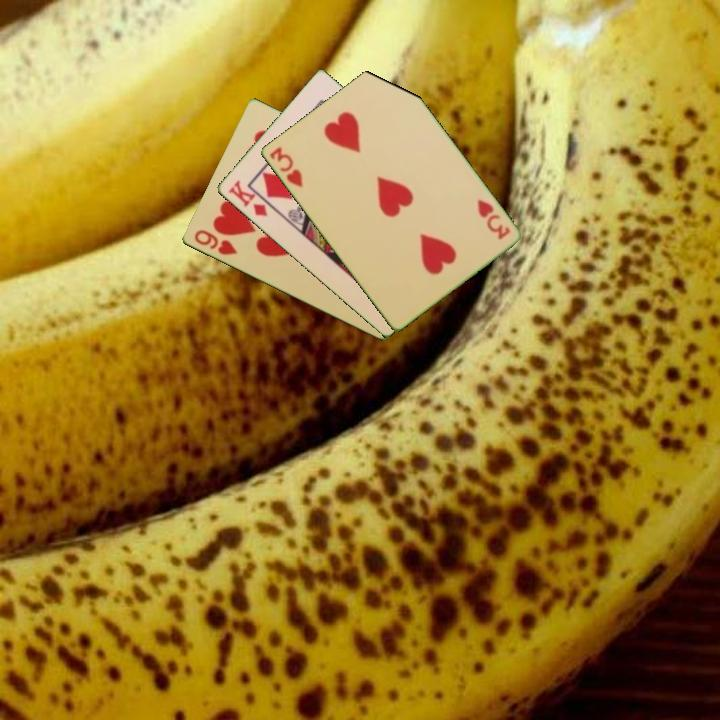3h: (265, 143, 306, 190), (473, 196, 513, 243)
9h: (190, 226, 240, 258)
Kd: (224, 176, 270, 220)
